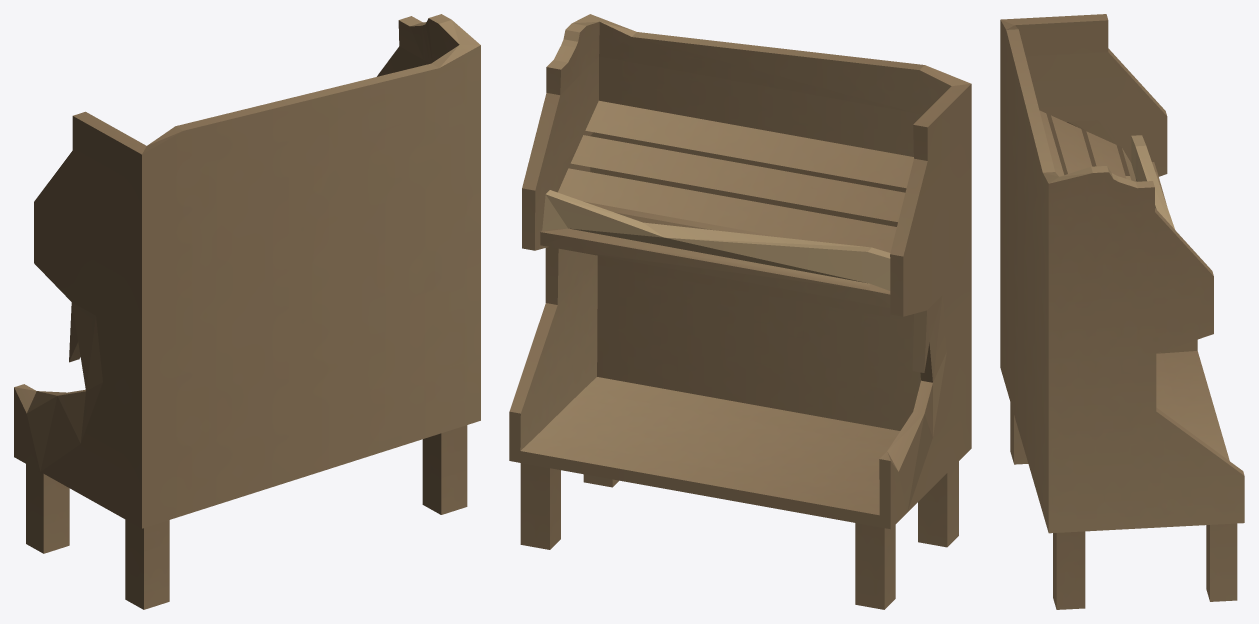
Rendered from leaflet_holder_1.obj.
The picture shows the model from 3 angles, left to right: view 1: azimuth 30°, elevation 25°; view 2: azimuth 150°, elevation 25°; view 3: azimuth 270°, elevation 25°; orthographic projection. The views are drawn at different scales.
Visible parts, largest first — view 1: leaflet_holder_1_Mesh; view 2: leaflet_holder_1_Mesh; view 3: leaflet_holder_1_Mesh.
Part boxes in pixels (<box>): leaflet_holder_1_Mesh: <box>14,14,480,609</box>; leaflet_holder_1_Mesh: <box>509,14,971,609</box>; leaflet_holder_1_Mesh: <box>1000,14,1244,609</box>.
Size of the model in its own units: 0.8626 by 1 by 0.5064.
